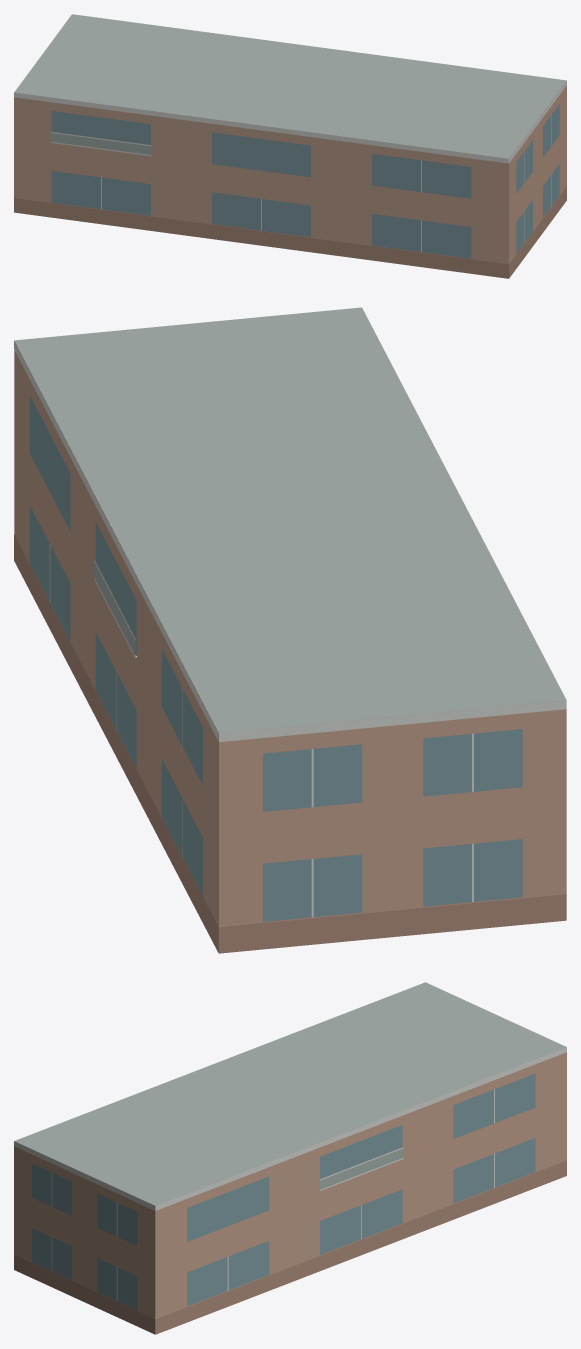
File: survey-upis-32718923.glb
3 views of the same model, one above another, from view 1: azimuth 30°, elevation 25°; view 2: azimuth 150°, elevation 25°; view 3: azimuth 270°, elevation 25° (orthographic). The views are drawn at different scales.
Parts seen in each view (by area): view 1: survey-upis-32718923.tmp; view 2: survey-upis-32718923.tmp; view 3: survey-upis-32718923.tmp.
Part boxes in pixels (x1,y1,x2,y2): survey-upis-32718923.tmp: [14, 14, 566, 278]; survey-upis-32718923.tmp: [14, 307, 566, 953]; survey-upis-32718923.tmp: [14, 982, 566, 1334].
Size of the model in its own units: 22.72 by 6.1 by 23.73.
